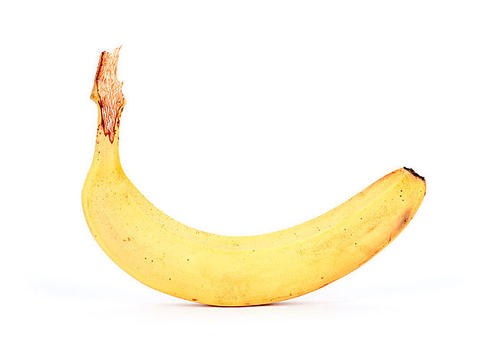fruit_banana: (74, 40, 430, 312)
